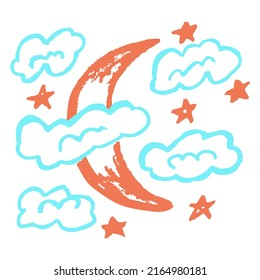cloud: (12, 98, 150, 167), (136, 124, 245, 181), (148, 38, 245, 94), (10, 27, 87, 82), (15, 184, 98, 233)
moon: (64, 35, 175, 213)
